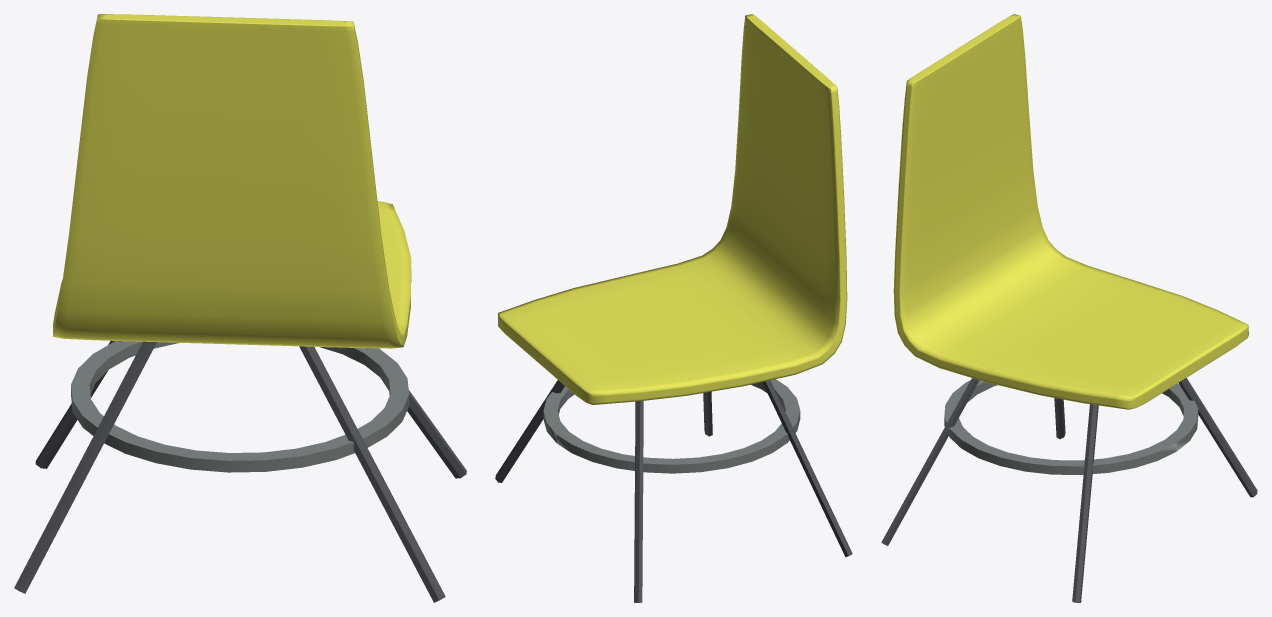
Rendered from chair.glb.
3 views of the same model, side by side, from view 1: azimuth 30°, elevation 25°; view 2: azimuth 150°, elevation 25°; view 3: azimuth 270°, elevation 25° (orthographic). The views are drawn at different scales.
Visible parts, largest first — view 1: sitpart, ring, Merged Geometry; view 2: sitpart, ring, Merged Geometry; view 3: sitpart, ring, Merged Geometry.
Boxes of the visible parts, box(x1,y1,x2,y2) form: sitpart: box(52, 14, 411, 348); ring: box(71, 341, 409, 472); Merged Geometry: box(14, 340, 466, 602); sitpart: box(498, 14, 847, 404); ring: box(543, 379, 800, 473); Merged Geometry: box(495, 380, 852, 602); sitpart: box(893, 14, 1248, 409); ring: box(944, 380, 1198, 474); Merged Geometry: box(881, 378, 1257, 602).
Bounding box in the file's own units: 1.81 × 2.21 × 1.7.
